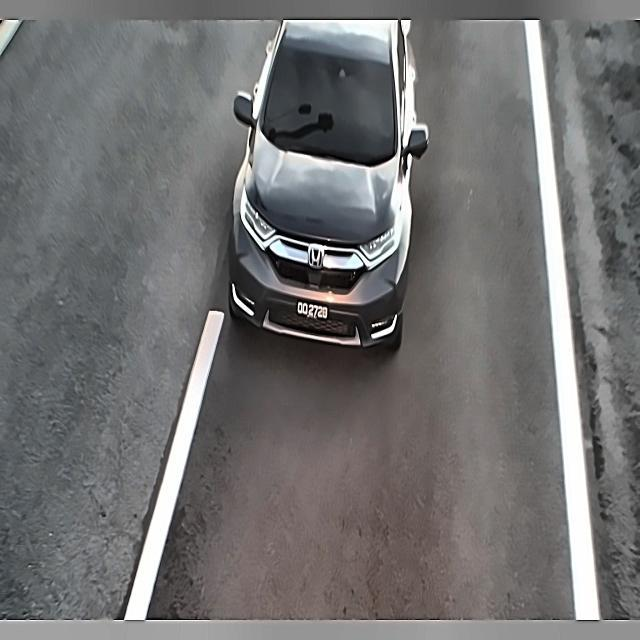car: (288, 294, 335, 329)
